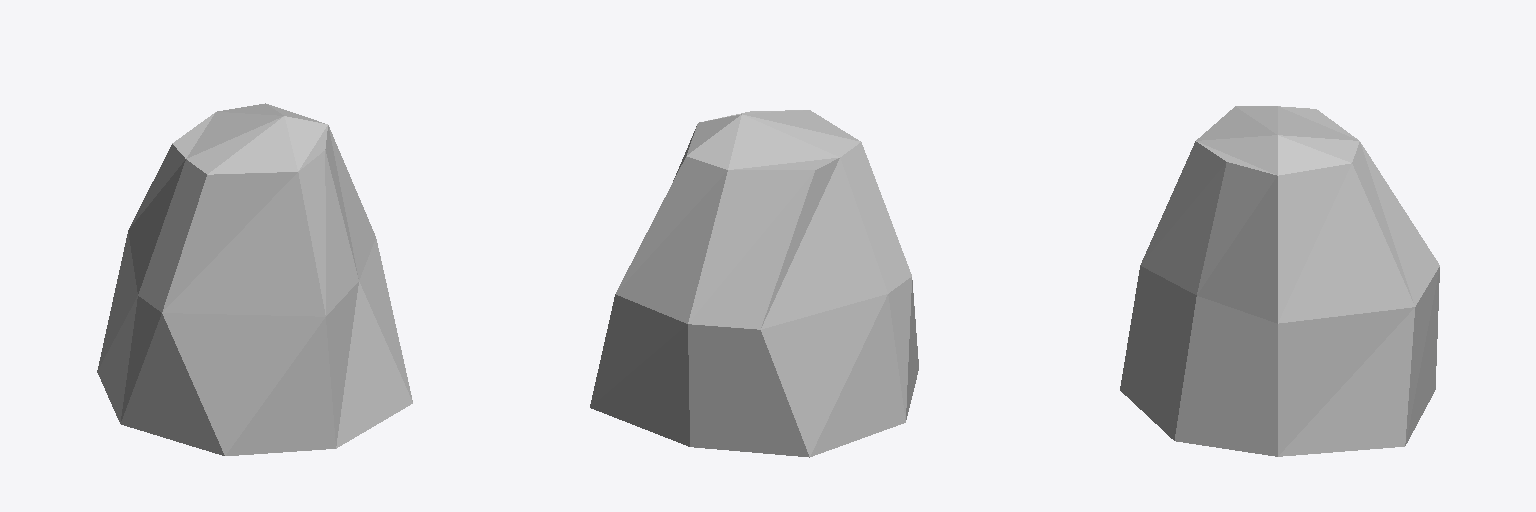
Rendered from rawMaterial.obj.
The picture shows the model from 3 angles: view 1: azimuth 30°, elevation 25°; view 2: azimuth 150°, elevation 25°; view 3: azimuth 270°, elevation 25°; orthographic projection.
Parts seen in each view (by area): view 1: pCube1; view 2: pCube1; view 3: pCube1.
Part boxes in pixels (x1,y1,x2,y2): pCube1: (97, 103, 412, 455); pCube1: (590, 110, 918, 457); pCube1: (1120, 106, 1439, 456).
Bounding box in the file's own units: 1.15 × 1.08 × 1.16.